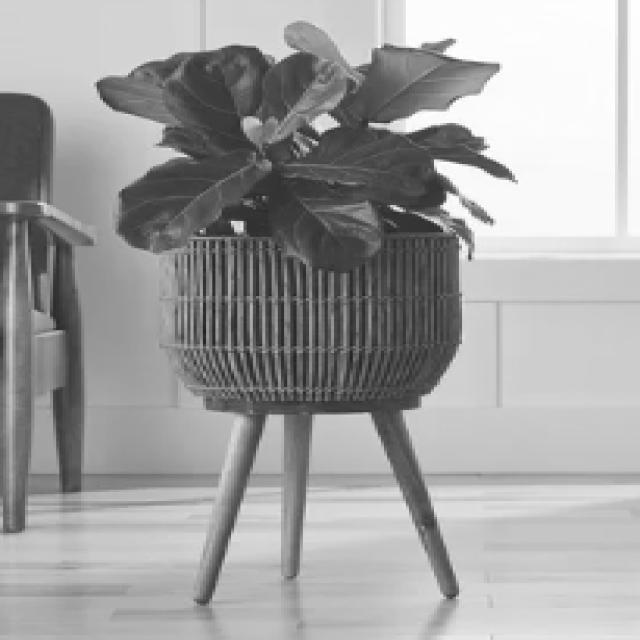Plant Pot: (108, 219, 500, 624)
